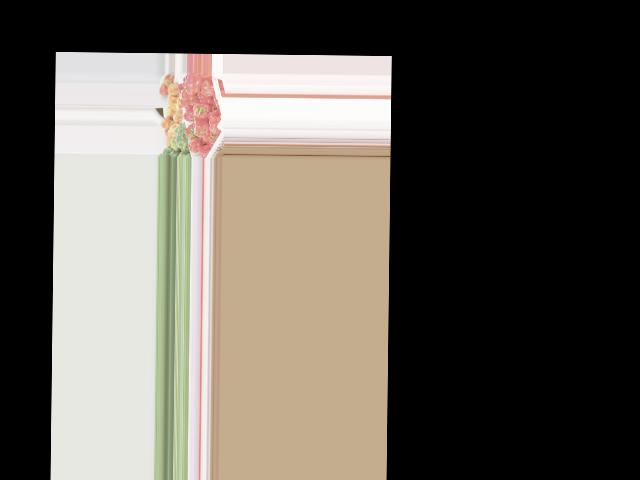bell_pepper: (208, 109, 222, 134)
